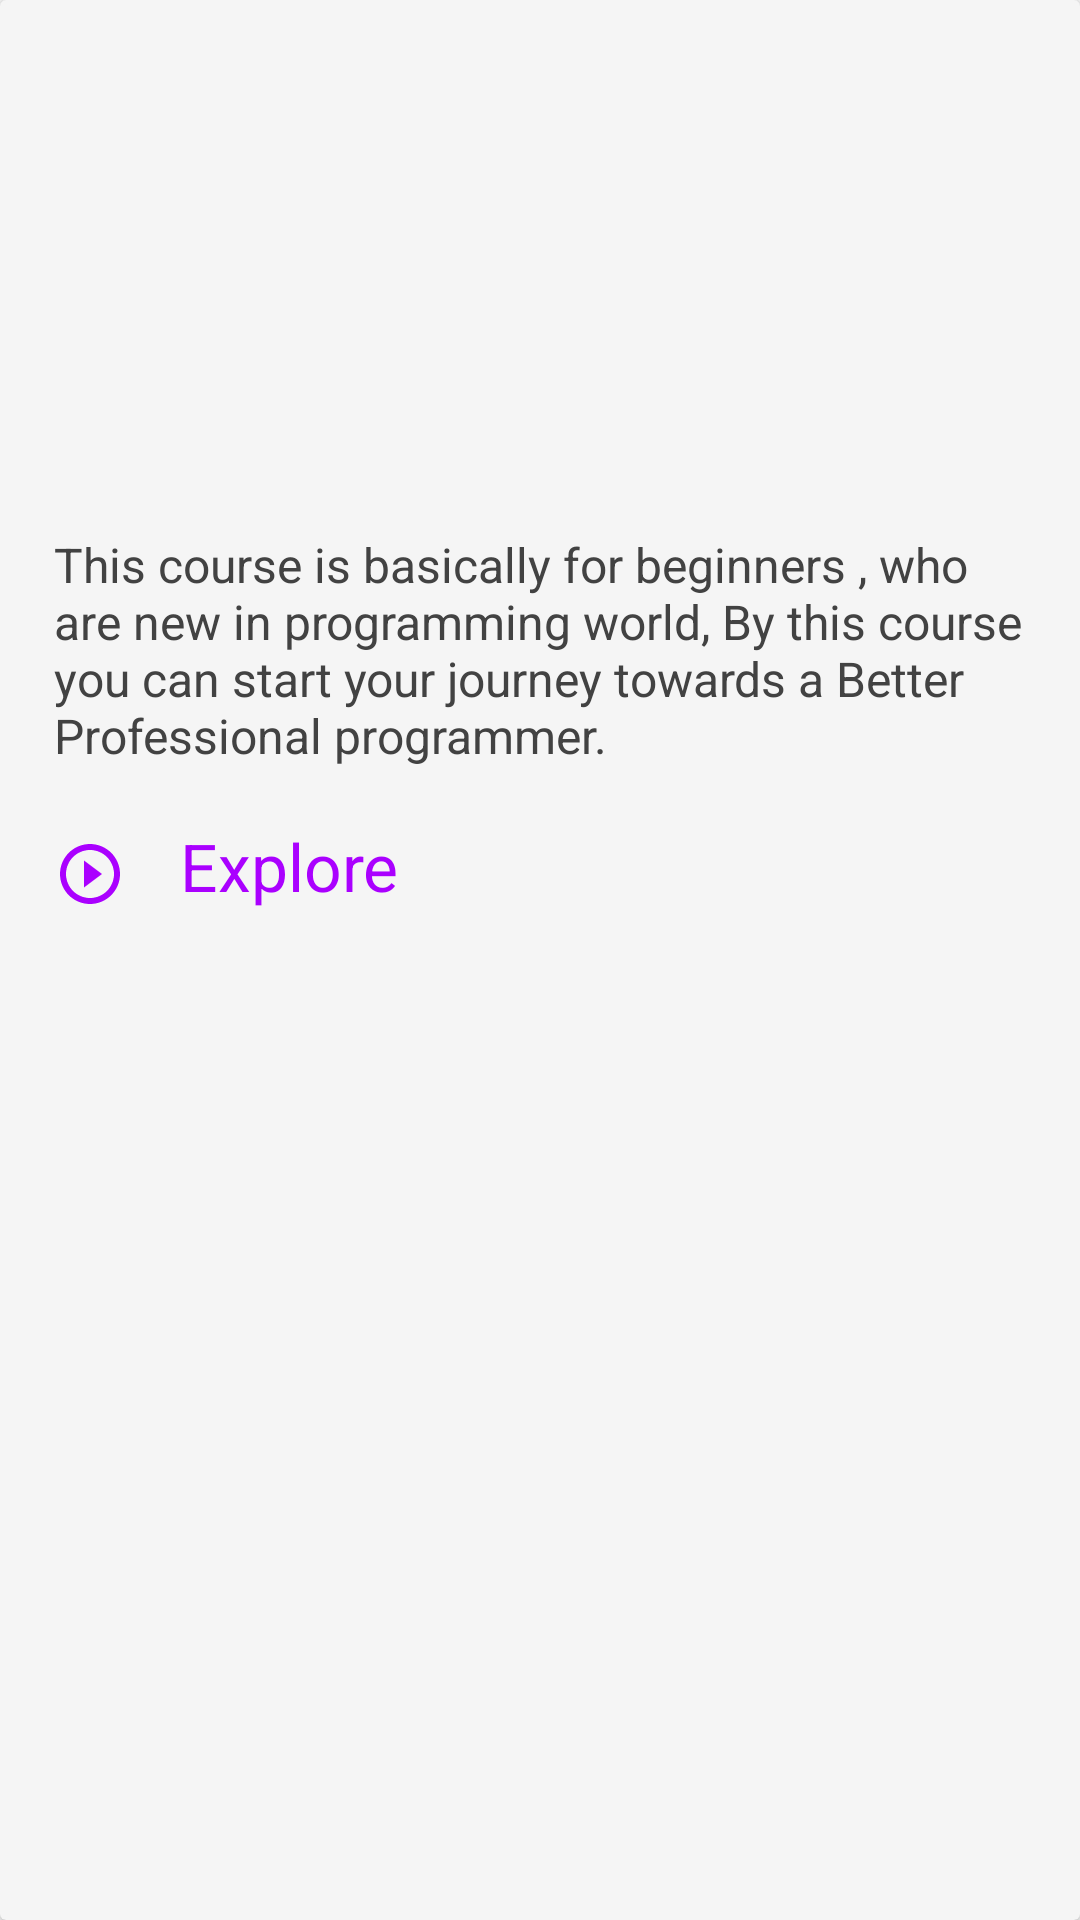

Screen size 1080×1920. Icon name, then its box in pixels as (x1, y1, x2, y2):
play: (60, 844, 120, 904)
